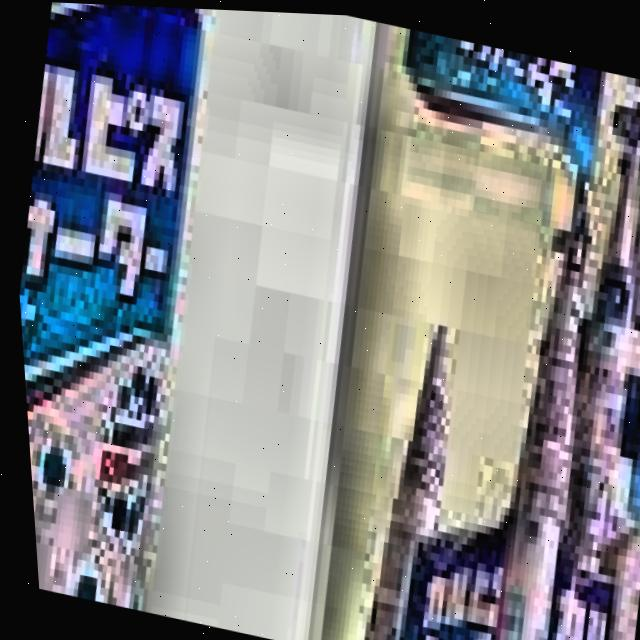metal: (0, 0, 268, 618)
